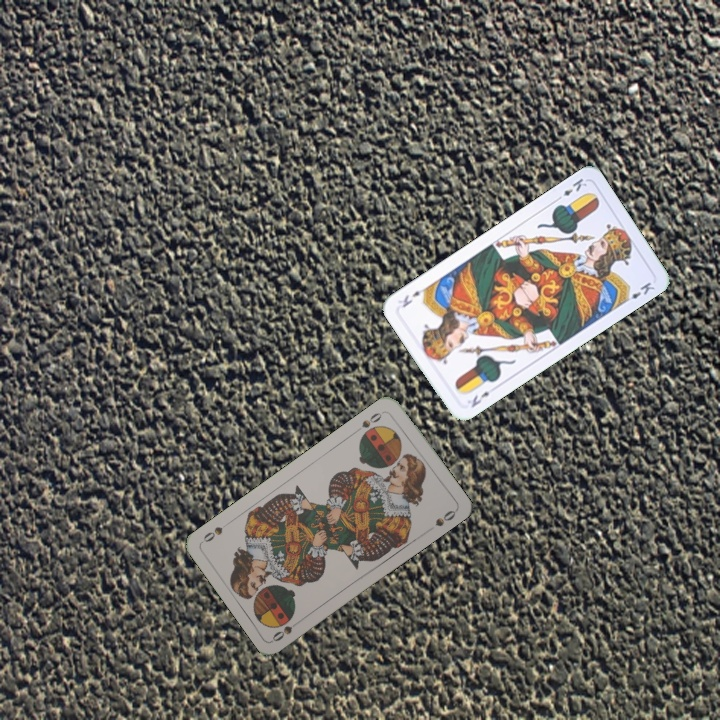EK: (552, 174, 590, 204), (467, 387, 492, 410)
SO: (268, 615, 305, 644), (351, 407, 387, 435)
